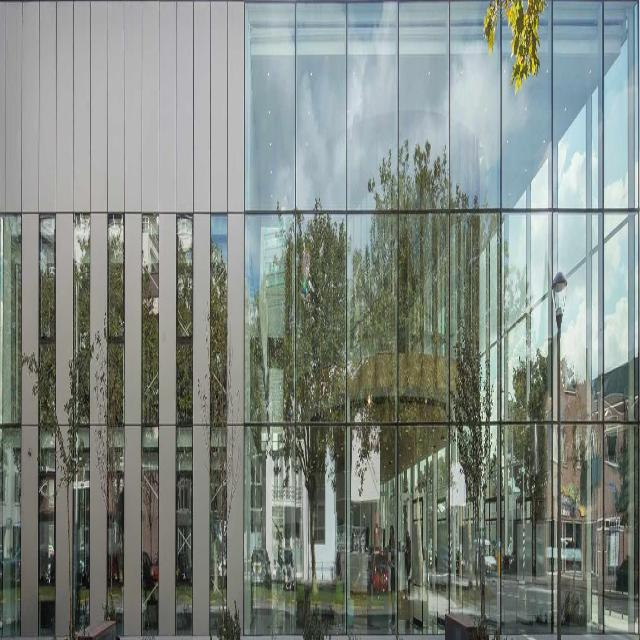plant: (484, 0, 545, 94)
wall: (3, 3, 640, 636)
windows: (245, 0, 639, 639), (210, 211, 228, 634), (36, 205, 54, 628), (142, 212, 160, 634), (108, 210, 126, 632), (72, 208, 90, 630), (2, 218, 20, 640), (176, 208, 193, 630)
